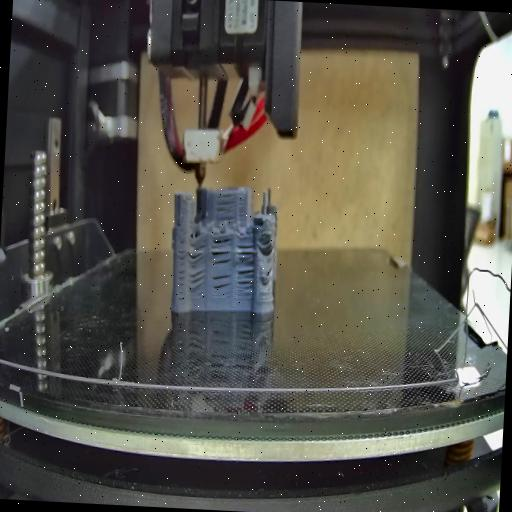cracks: (210, 234, 234, 266), (211, 272, 233, 302), (235, 268, 256, 299), (176, 238, 186, 303), (215, 194, 237, 223), (186, 239, 207, 263), (187, 268, 207, 292), (236, 242, 255, 262), (264, 238, 276, 254), (264, 264, 274, 280), (177, 216, 183, 228)
